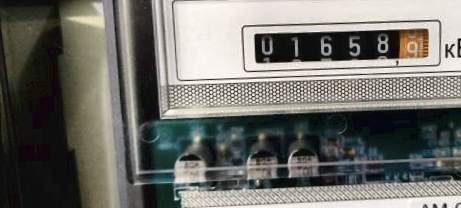0: (259, 33, 273, 55)
1: (289, 34, 300, 57)
5: (346, 33, 361, 56)
6: (317, 33, 332, 56)
8: (374, 30, 389, 53)
9: (403, 38, 418, 60)
screen: (235, 10, 449, 79)
